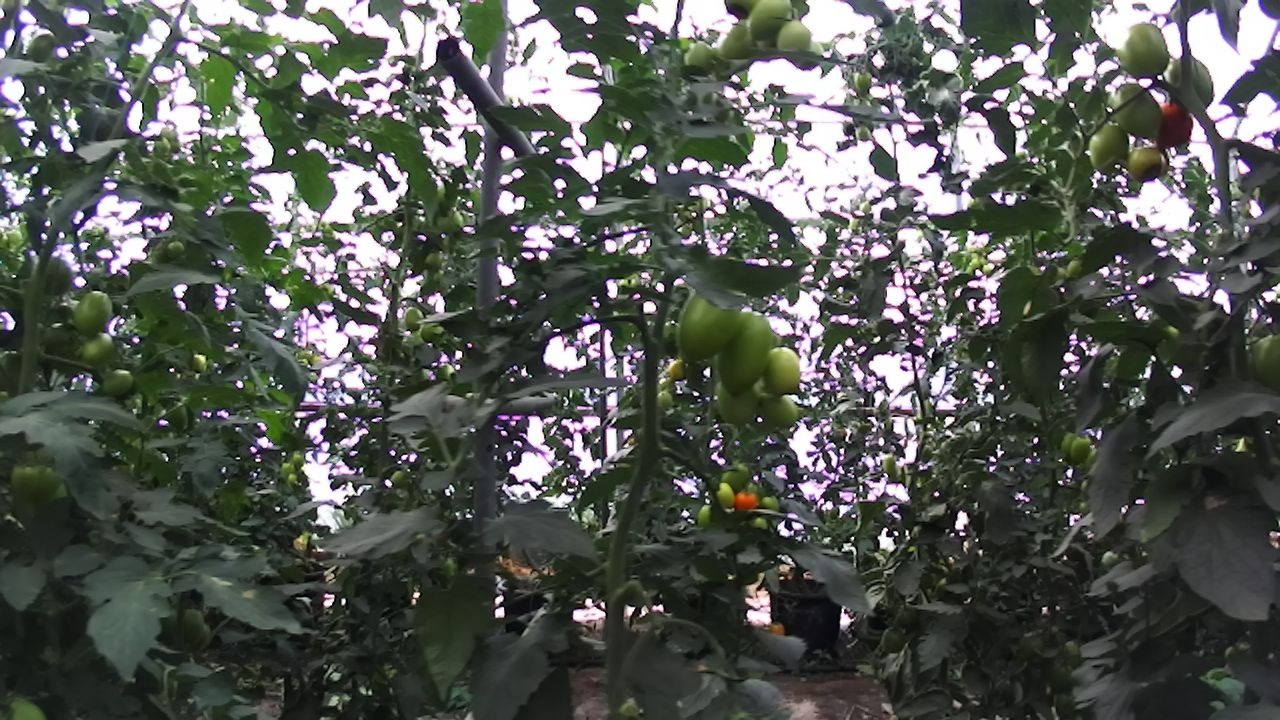tomato: (666, 272, 758, 379), (708, 294, 783, 410), (1156, 47, 1228, 122), (1110, 15, 1181, 90), (1105, 73, 1174, 150), (63, 277, 126, 348), (707, 366, 774, 432), (757, 337, 814, 410), (1143, 90, 1204, 157), (751, 379, 813, 442), (1083, 114, 1138, 180), (739, 0, 803, 49), (1121, 135, 1172, 190), (16, 25, 71, 75), (29, 252, 82, 303), (674, 33, 726, 84), (711, 18, 762, 68), (770, 12, 820, 63), (75, 328, 128, 373), (3, 459, 48, 504), (96, 360, 143, 403), (28, 461, 69, 506), (174, 604, 211, 650), (716, 456, 757, 495), (431, 203, 473, 240), (160, 393, 196, 436), (413, 316, 453, 352), (875, 621, 911, 661), (1046, 656, 1081, 697), (1057, 636, 1096, 672), (848, 61, 881, 100), (158, 231, 192, 267), (711, 477, 744, 514), (1049, 687, 1083, 720), (889, 598, 922, 632), (730, 485, 763, 519), (1058, 252, 1092, 284), (1055, 427, 1080, 469), (399, 303, 429, 336), (1066, 434, 1095, 467), (665, 354, 696, 384), (848, 119, 880, 147), (756, 491, 786, 520), (187, 348, 212, 379), (653, 387, 681, 414), (385, 465, 412, 492), (876, 452, 902, 479), (420, 248, 447, 273), (1097, 546, 1123, 571), (285, 447, 308, 472), (277, 460, 298, 483)
